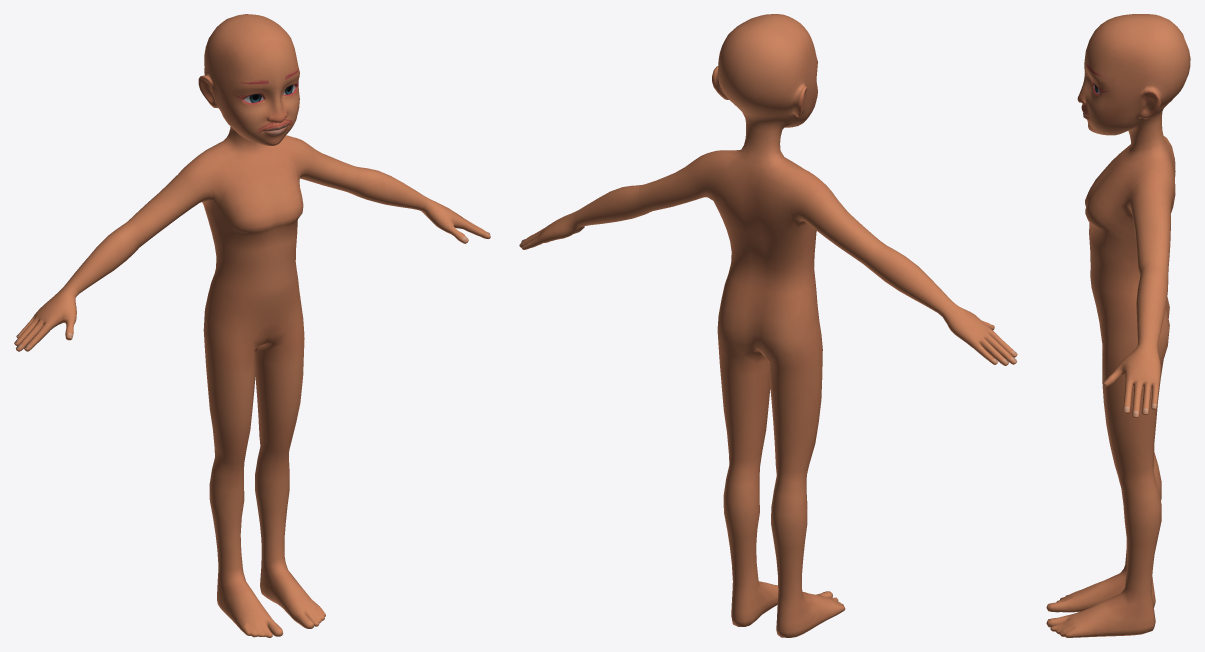
File: frame_0013.glb
3 renders of one model, left to right at view 1: azimuth 30°, elevation 25°; view 2: azimuth 150°, elevation 25°; view 3: azimuth 270°, elevation 25°, orthographic. The views are drawn at different scales.
Parts seen in each view (by area): view 1: frame_0013_head_geo; view 2: frame_0013_head_geo; view 3: frame_0013_head_geo.
Part boxes in pixels (x1,y1,x2,y2): frame_0013_head_geo: (14,14,490,637); frame_0013_head_geo: (519,14,1017,637); frame_0013_head_geo: (1046,14,1190,637).
Bounding box in the file's own units: 1.28 × 1.5 × 0.3253.
Materials: 3 (3 with a texture image).
